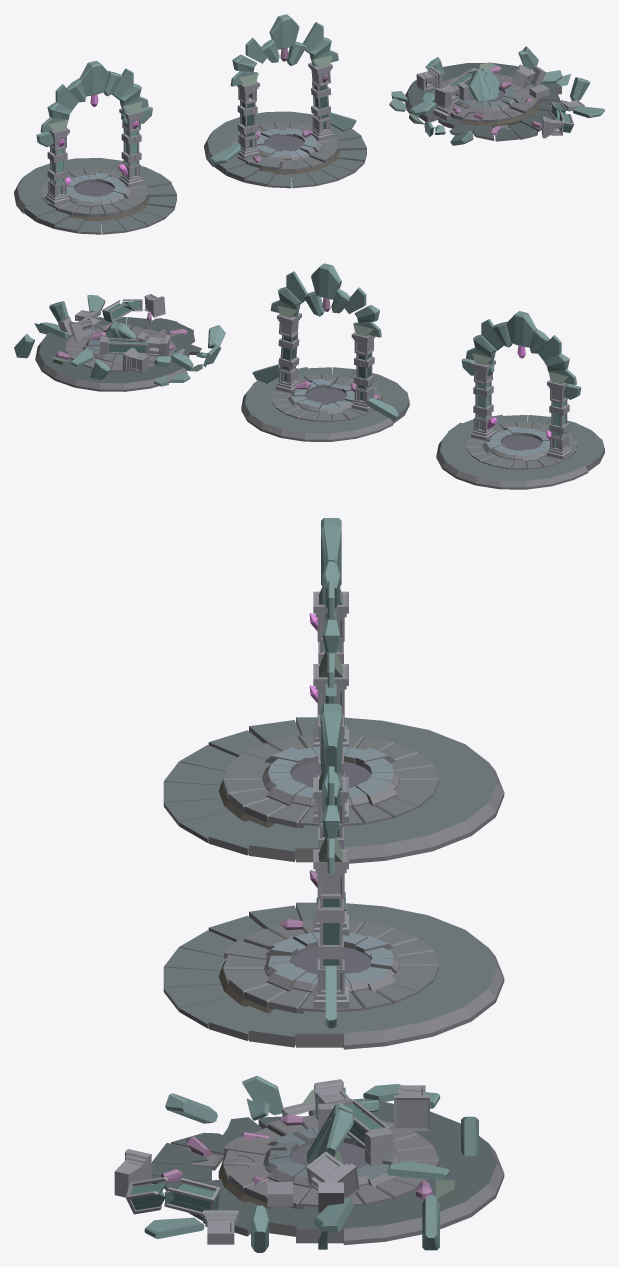
File: portal.fbx
3 views of the same model, one above another, from view 1: azimuth 30°, elevation 25°; view 2: azimuth 150°, elevation 25°; view 3: azimuth 270°, elevation 25° (orthographic). The views are drawn at different scales.
Parts seen in each view (by area): view 1: polySurface365, pCylinder16, polySurface442; view 2: pCylinder16, polySurface365, polySurface442; view 3: polySurface442, polySurface365, pCylinder16.
Part boxes in pixels (box(x1,y1,x2,y2)): polySurface365: box(204, 14, 366, 188); pCylinder16: box(14, 60, 176, 234); polySurface442: box(389, 46, 604, 145); pCylinder16: box(436, 311, 604, 489); polySurface365: box(241, 263, 409, 441); polySurface442: box(14, 294, 225, 391); polySurface442: box(114, 1076, 504, 1252); polySurface365: box(163, 703, 504, 1049); pCylinder16: box(163, 518, 504, 863).
Bounding box in the file's own units: 40.48 × 9.89 × 12.51.
